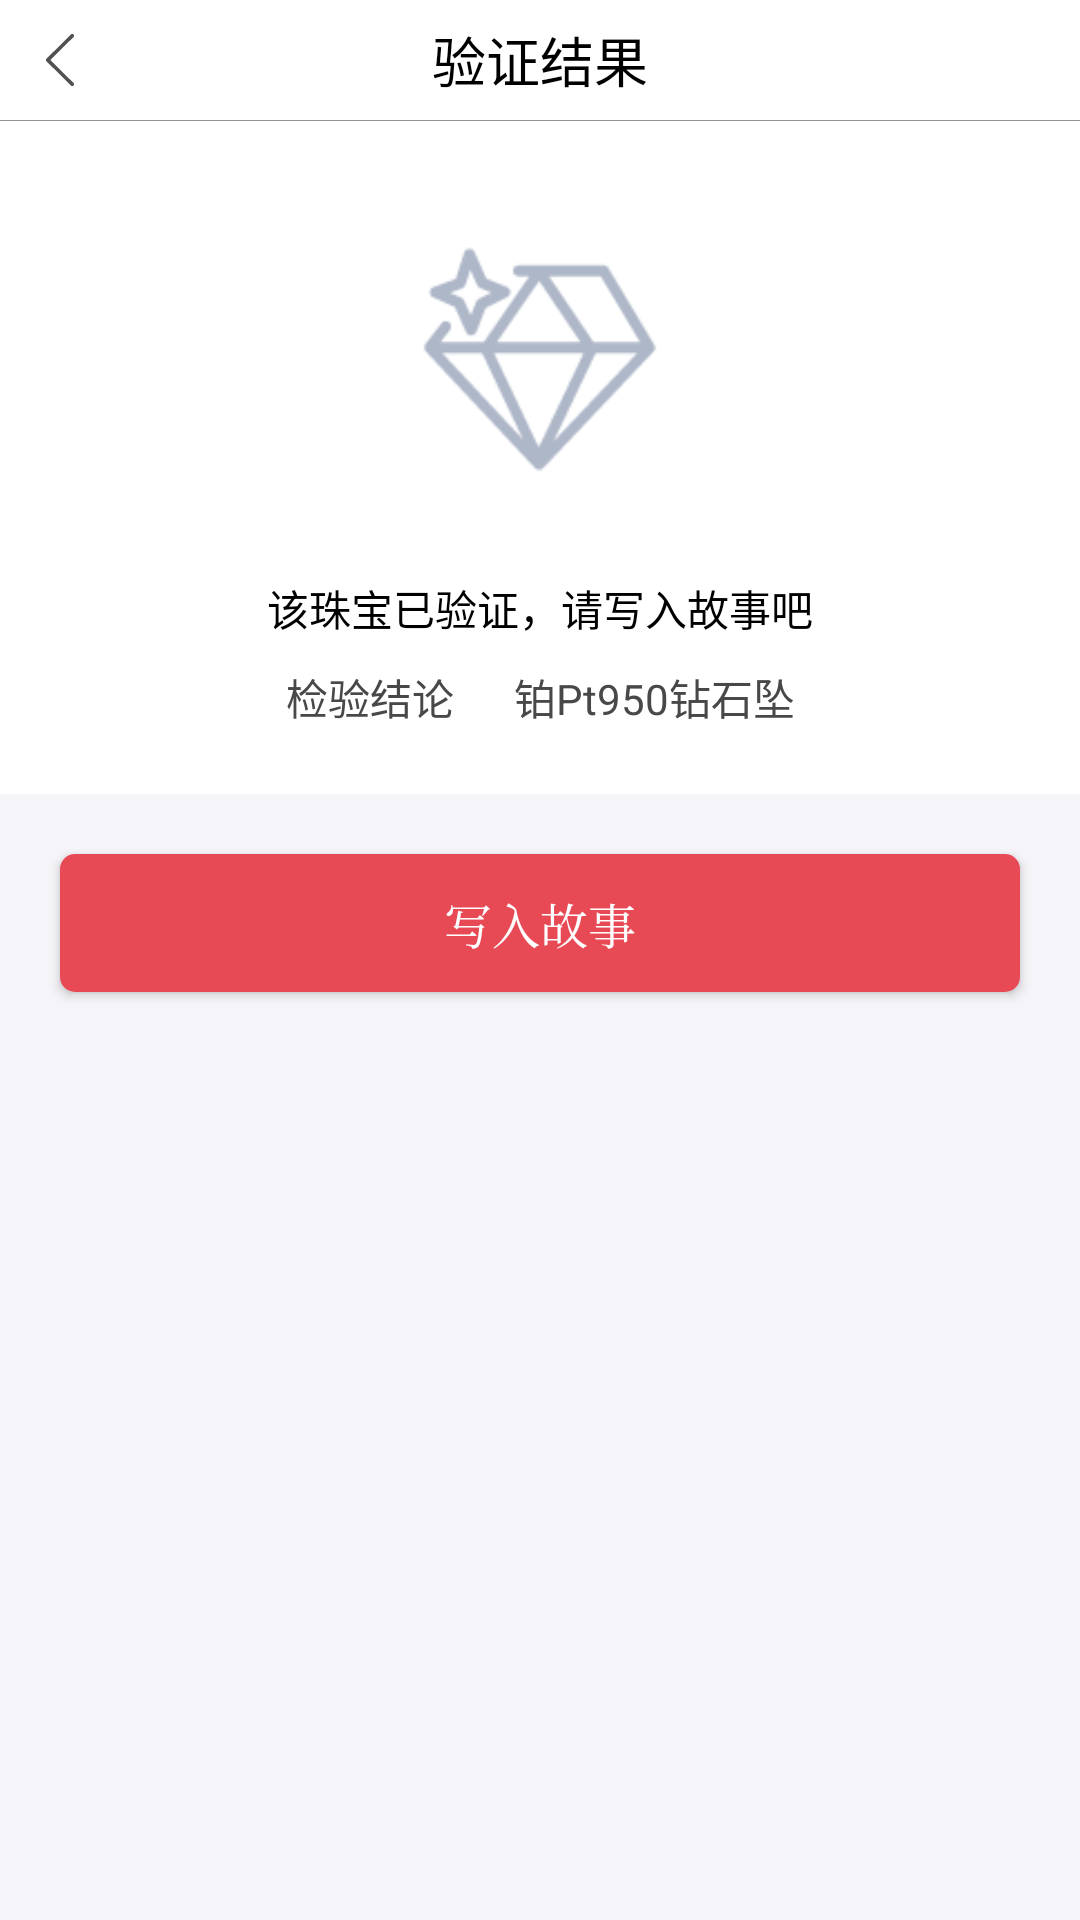

Locate icon controls on the screen. Image size 1080x1920, boxes as [x1,y1,x2,y2].
jewelry verify result: [424,248,656,471]
